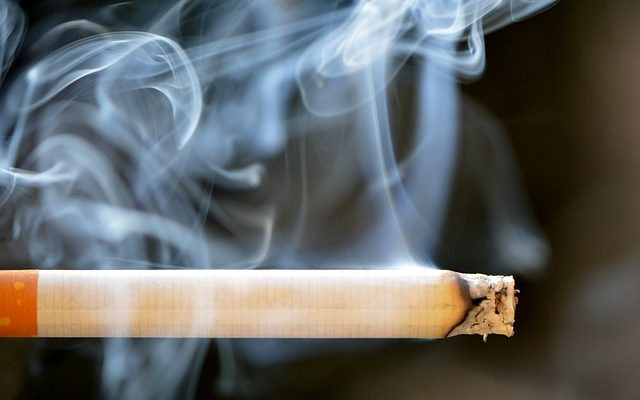cigarette: (2, 249, 525, 354)
